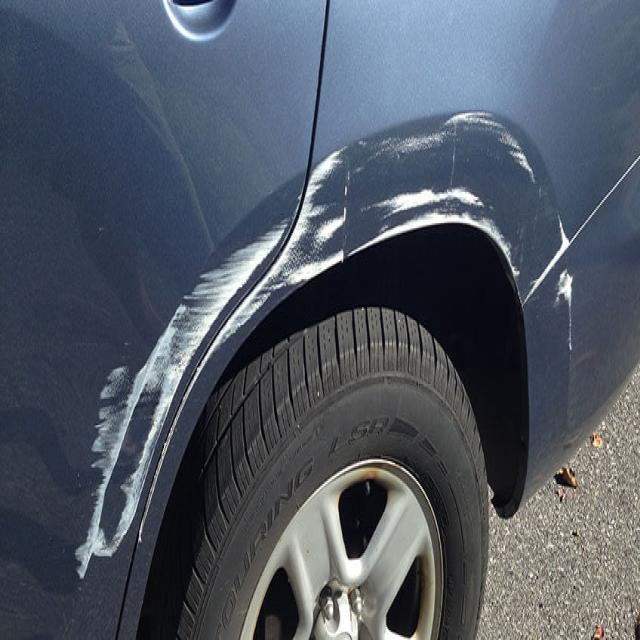Scratch: (77, 112, 574, 586)
